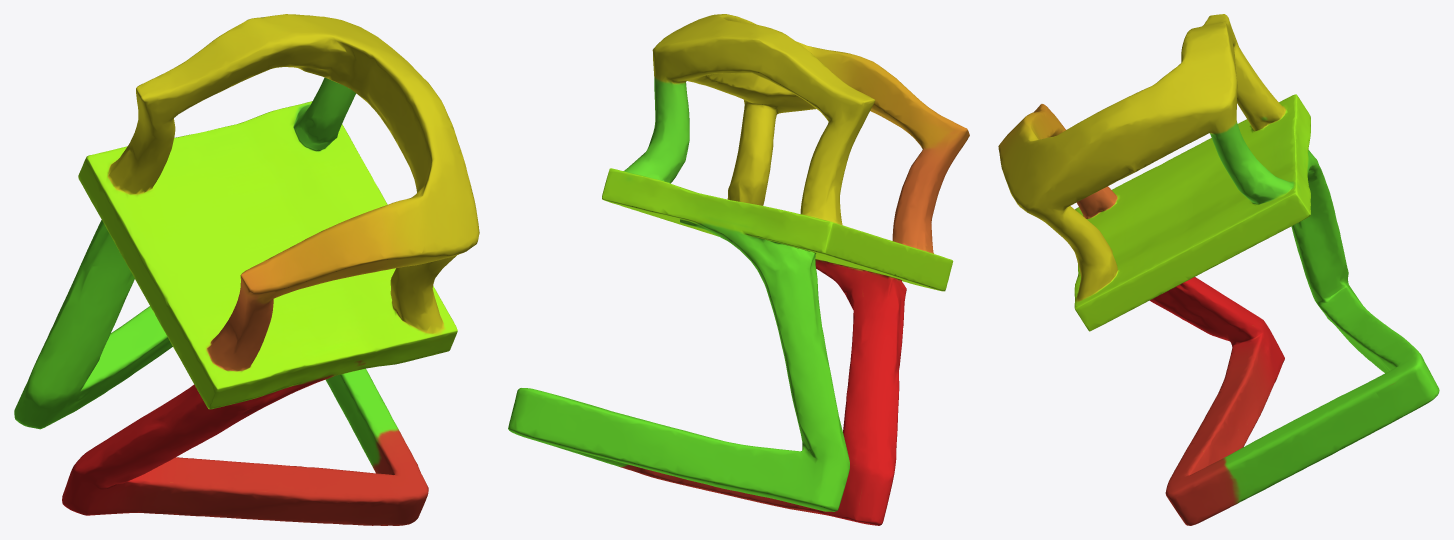
File: chair.glb
3 renders of one model, left to right at view 1: azimuth 30°, elevation 25°; view 2: azimuth 150°, elevation 25°; view 3: azimuth 270°, elevation 25°, orthographic. The views are drawn at different scales.
Visible parts, largest first — view 1: world; view 2: world; view 3: world.
Boxes of the visible parts, x1=… form: world: x1=14, y1=14, x2=479, y2=525; world: x1=508, y1=14, x2=969, y2=525; world: x1=998, y1=14, x2=1439, y2=525.
Size of the model in its own units: 0.6305 by 1 by 0.9088.
1 material, 1 textured.
